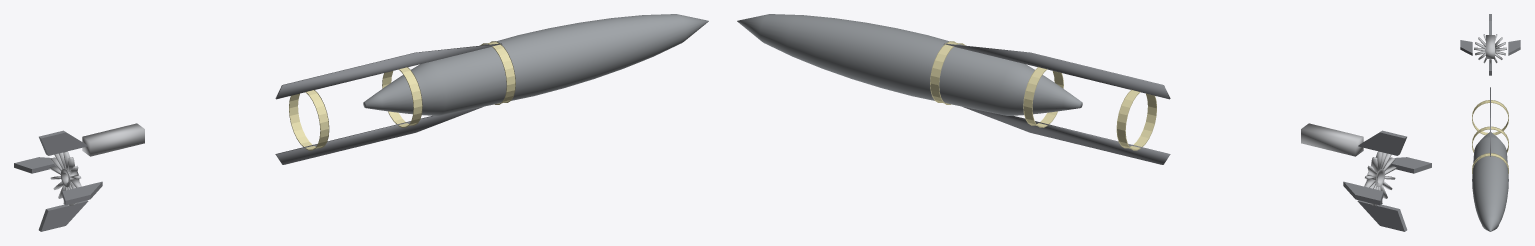
The model's file is UK_TORP_Tigerfish_LOD1.fbx.
3 renders of one model, left to right at view 1: azimuth 30°, elevation 25°; view 2: azimuth 150°, elevation 25°; view 3: azimuth 270°, elevation 25°, orthographic. The views are drawn at different scales.
Visible parts, largest first — view 1: WPN_UK_TORP_Tigerfish_LOD1_Body, WPN_UK_TORP_Tigerfish_LOD1_Detail, WPN_UK_TORP_Tigerfish_LOD1_Marking, WPN_UK_TORP_Tigerfish_LOD1_Fins, WPN_UK_TORP_Tigerfish_LOD1_Propulsor; view 2: WPN_UK_TORP_Tigerfish_LOD1_Body, WPN_UK_TORP_Tigerfish_LOD1_Detail, WPN_UK_TORP_Tigerfish_LOD1_Marking, WPN_UK_TORP_Tigerfish_LOD1_Fins, WPN_UK_TORP_Tigerfish_LOD1_Propulsor; view 3: WPN_UK_TORP_Tigerfish_LOD1_Body, WPN_UK_TORP_Tigerfish_LOD1_Marking, WPN_UK_TORP_Tigerfish_LOD1_Fins, WPN_UK_TORP_Tigerfish_LOD1_Propulsor, WPN_UK_TORP_Tigerfish_LOD1_Detail.
Boxes of the visible parts, bbox=[...] form: WPN_UK_TORP_Tigerfish_LOD1_Body: bbox=[363, 14, 708, 115]; WPN_UK_TORP_Tigerfish_LOD1_Detail: bbox=[82, 43, 502, 164]; WPN_UK_TORP_Tigerfish_LOD1_Marking: bbox=[289, 41, 515, 150]; WPN_UK_TORP_Tigerfish_LOD1_Fins: bbox=[14, 130, 102, 231]; WPN_UK_TORP_Tigerfish_LOD1_Propulsor: bbox=[49, 151, 81, 206]; WPN_UK_TORP_Tigerfish_LOD1_Body: bbox=[737, 14, 1082, 115]; WPN_UK_TORP_Tigerfish_LOD1_Detail: bbox=[943, 43, 1363, 164]; WPN_UK_TORP_Tigerfish_LOD1_Marking: bbox=[930, 41, 1156, 150]; WPN_UK_TORP_Tigerfish_LOD1_Fins: bbox=[1343, 130, 1431, 231]; WPN_UK_TORP_Tigerfish_LOD1_Propulsor: bbox=[1364, 151, 1396, 206]; WPN_UK_TORP_Tigerfish_LOD1_Body: bbox=[1472, 132, 1508, 231]; WPN_UK_TORP_Tigerfish_LOD1_Marking: bbox=[1472, 100, 1508, 173]; WPN_UK_TORP_Tigerfish_LOD1_Fins: bbox=[1460, 14, 1520, 75]; WPN_UK_TORP_Tigerfish_LOD1_Propulsor: bbox=[1474, 34, 1506, 64]; WPN_UK_TORP_Tigerfish_LOD1_Detail: bbox=[1486, 35, 1494, 156].
Size of the model in its own units: 6.53 by 0.8715 by 0.8715.
